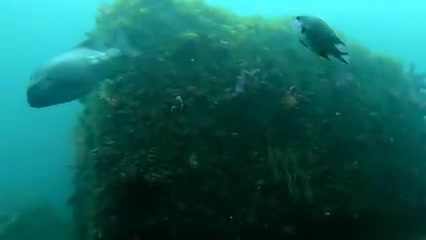mezina: (287, 12, 350, 69)
smallfish: (21, 40, 130, 104)
